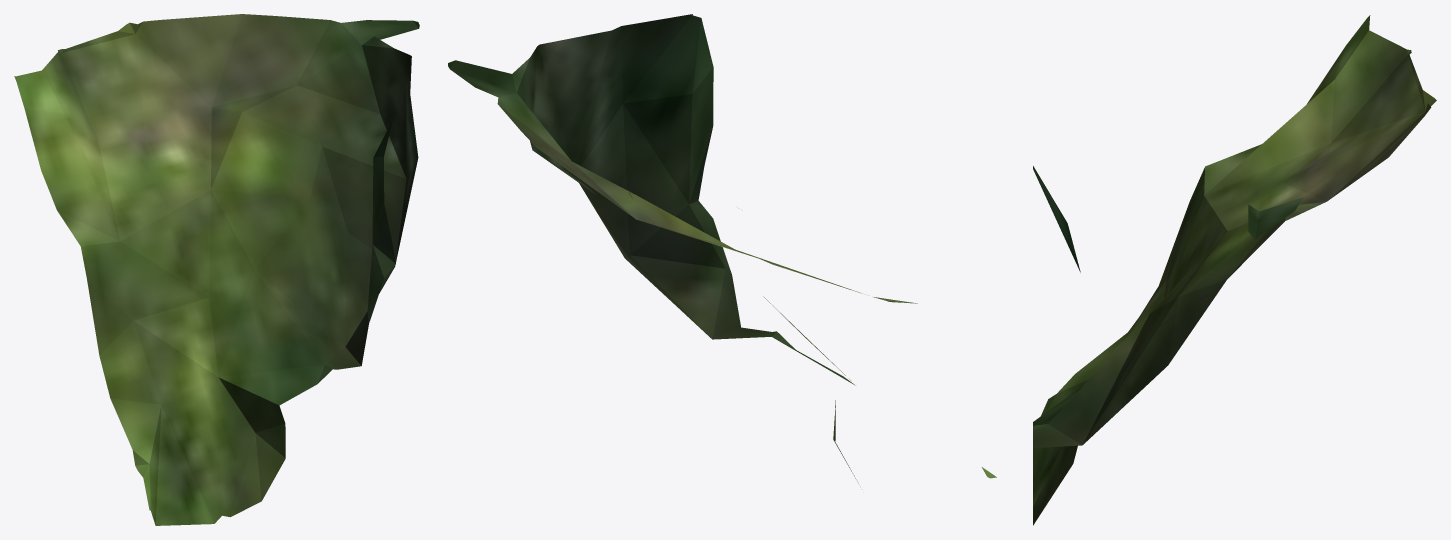
3 views of the same model, side by side, from view 1: azimuth 30°, elevation 25°; view 2: azimuth 150°, elevation 25°; view 3: azimuth 270°, elevation 25° (orthographic). The views are drawn at different scales.
Bounding box in the file's own units: 5 × 4.86 × 3.89.
Materials: 1 (1 with a texture image).
